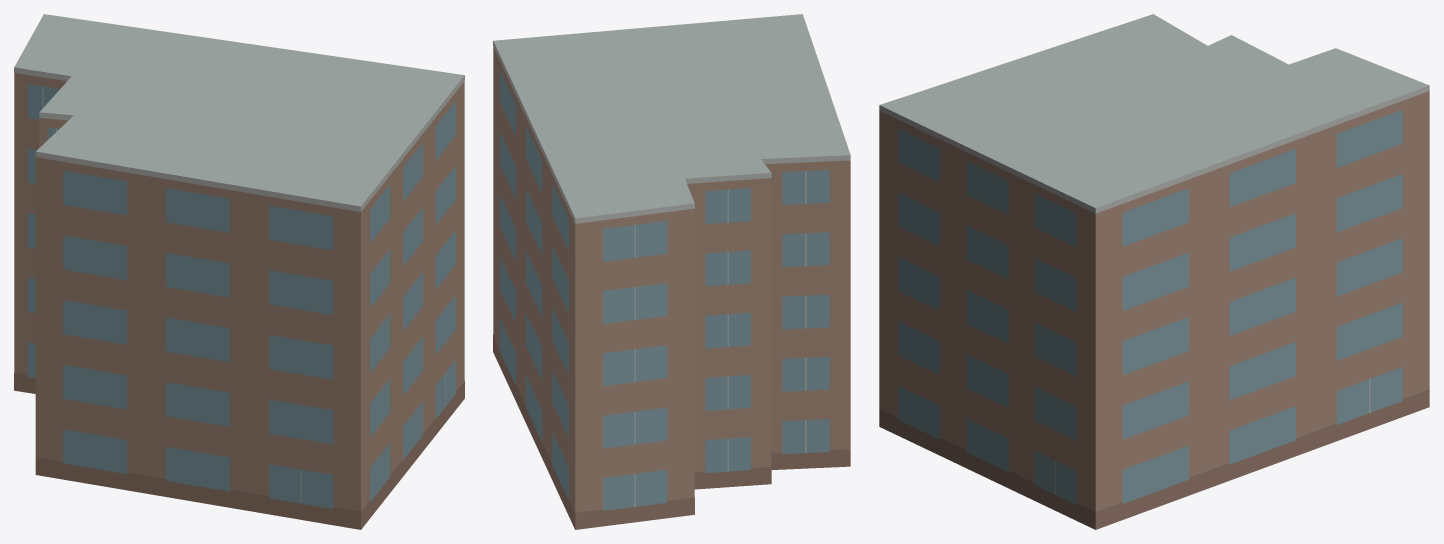
File: survey-upis-32508757.glb
3 views of the same model, side by side, from view 1: azimuth 30°, elevation 25°; view 2: azimuth 150°, elevation 25°; view 3: azimuth 270°, elevation 25° (orthographic). The views are drawn at different scales.
Parts seen in each view (by area): view 1: survey-upis-32508757.tmp; view 2: survey-upis-32508757.tmp; view 3: survey-upis-32508757.tmp.
Part boxes in pixels (x1=…): survey-upis-32508757.tmp: x1=14, y1=14, x2=464, y2=529; survey-upis-32508757.tmp: x1=493, y1=14, x2=850, y2=529; survey-upis-32508757.tmp: x1=879, y1=14, x2=1429, y2=529.
Size of the model in its own units: 18.53 by 14.3 by 22.18.
